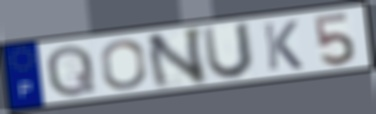5: (311, 10, 358, 68)
K: (260, 18, 305, 72)
N: (144, 25, 210, 92)
O: (99, 37, 149, 91)
Q: (45, 42, 99, 99)
U: (200, 19, 256, 81)
